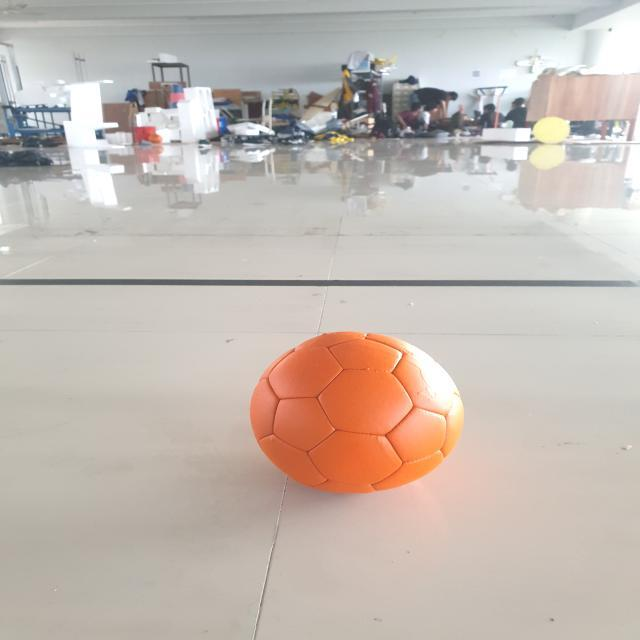bola: (233, 315, 485, 510)
